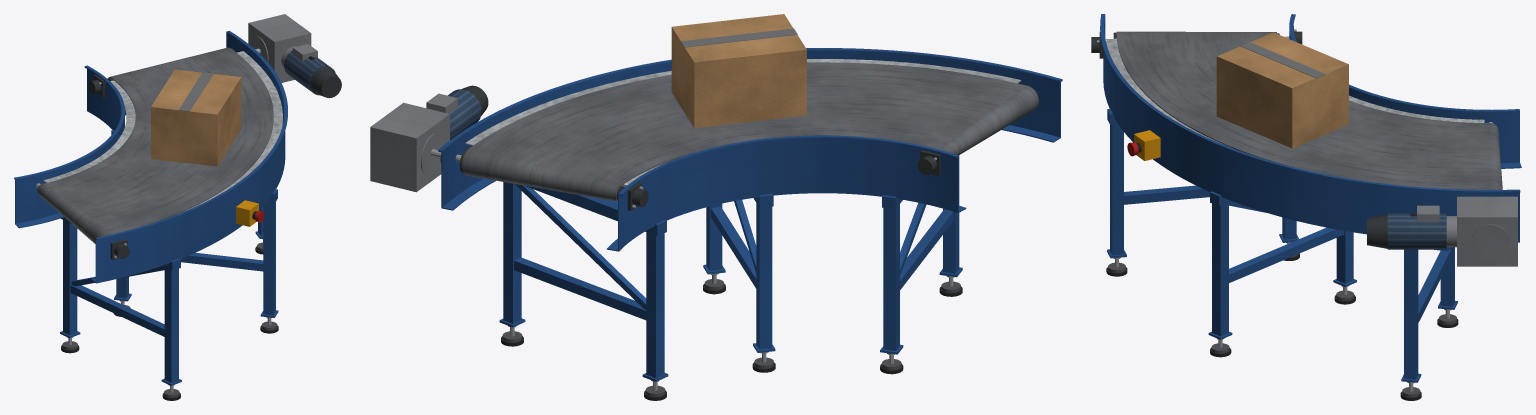
File: curved_conveyor.glb
The picture shows the model from 3 angles, left to right: view 1: azimuth 30°, elevation 25°; view 2: azimuth 150°, elevation 25°; view 3: azimuth 270°, elevation 25°; orthographic projection. The views are drawn at different scales.
Parts seen in each view (by area): view 1: Belt, Frame, Stands, Cartons, Drive, Slider bed, Feet, Bearings, Controls; view 2: Belt, Frame, Stands, Cartons, Drive, Slider bed, Feet, Bearings; view 3: Belt, Frame, Stands, Cartons, Drive, Feet, Slider bed, Controls.
Boxes of the visible parts, bbox=[...] form: Belt: bbox=[37, 47, 273, 243]; Frame: bbox=[14, 30, 287, 283]; Stands: bbox=[60, 130, 278, 385]; Cartons: bbox=[151, 69, 241, 166]; Drive: bbox=[248, 14, 341, 98]; Slider bed: bbox=[43, 51, 282, 214]; Feet: bbox=[61, 238, 278, 400]; Bearings: bbox=[88, 74, 129, 259]; Controls: bbox=[236, 200, 264, 226]; Belt: bbox=[461, 62, 1038, 201]; Frame: bbox=[438, 48, 1062, 251]; Stands: bbox=[499, 155, 962, 381]; Cartons: bbox=[671, 14, 806, 128]; Drive: bbox=[370, 85, 488, 192]; Slider bed: bbox=[465, 59, 1021, 185]; Feet: bbox=[501, 273, 962, 400]; Bearings: bbox=[440, 150, 940, 210]; Belt: bbox=[1116, 31, 1502, 189]; Frame: bbox=[1100, 14, 1521, 242]; Stands: bbox=[1107, 109, 1457, 382]; Cartons: bbox=[1216, 32, 1348, 148]; Drive: bbox=[1367, 196, 1517, 266]; Feet: bbox=[1106, 242, 1458, 400]; Slider bed: bbox=[1106, 36, 1484, 147]; Controls: bbox=[1127, 130, 1160, 160].
Bounding box in the file's own units: 1.85 × 1.1 × 1.61.
Materials: 14 (14 with a texture image).
